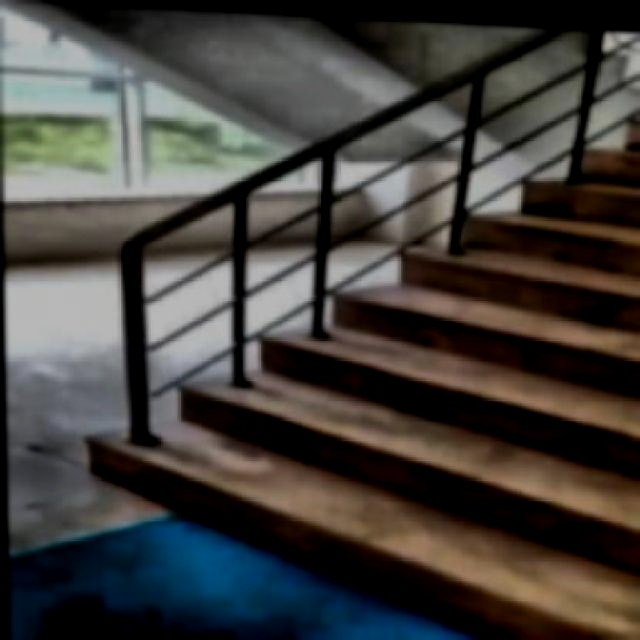stair: (30, 36, 639, 638)
